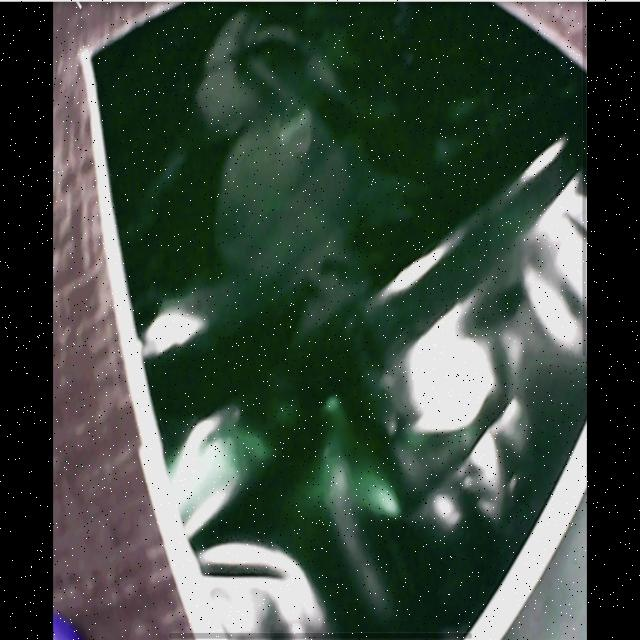ball: (53, 613, 80, 640)
